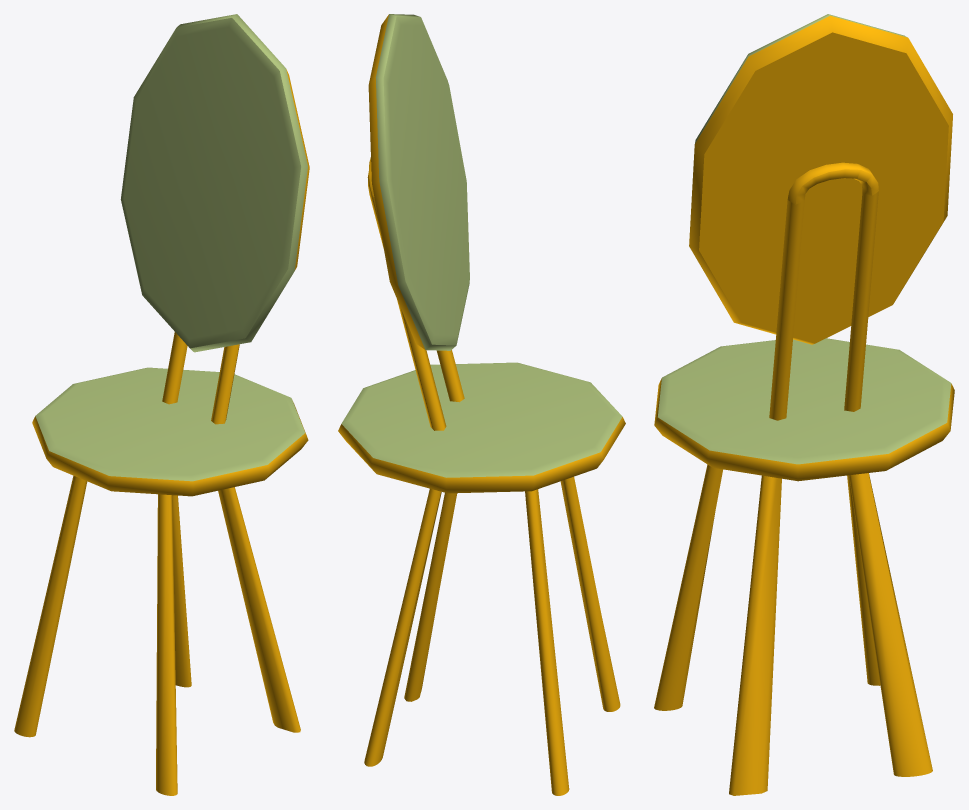
File: SM_Chaire5.fbx
The picture shows the model from 3 angles, left to right: view 1: azimuth 30°, elevation 25°; view 2: azimuth 150°, elevation 25°; view 3: azimuth 270°, elevation 25°; orthographic projection. The views are drawn at different scales.
Visible parts, largest first — view 1: SM_Chaire5; view 2: SM_Chaire5; view 3: SM_Chaire5.
Part boxes in pixels (x1=…): SM_Chaire5: x1=14, y1=14, x2=309, y2=795; SM_Chaire5: x1=338, y1=14, x2=625, y2=795; SM_Chaire5: x1=654, y1=14, x2=954, y2=795.
Size of the model in its own units: 41.46 by 113 by 40.02.
